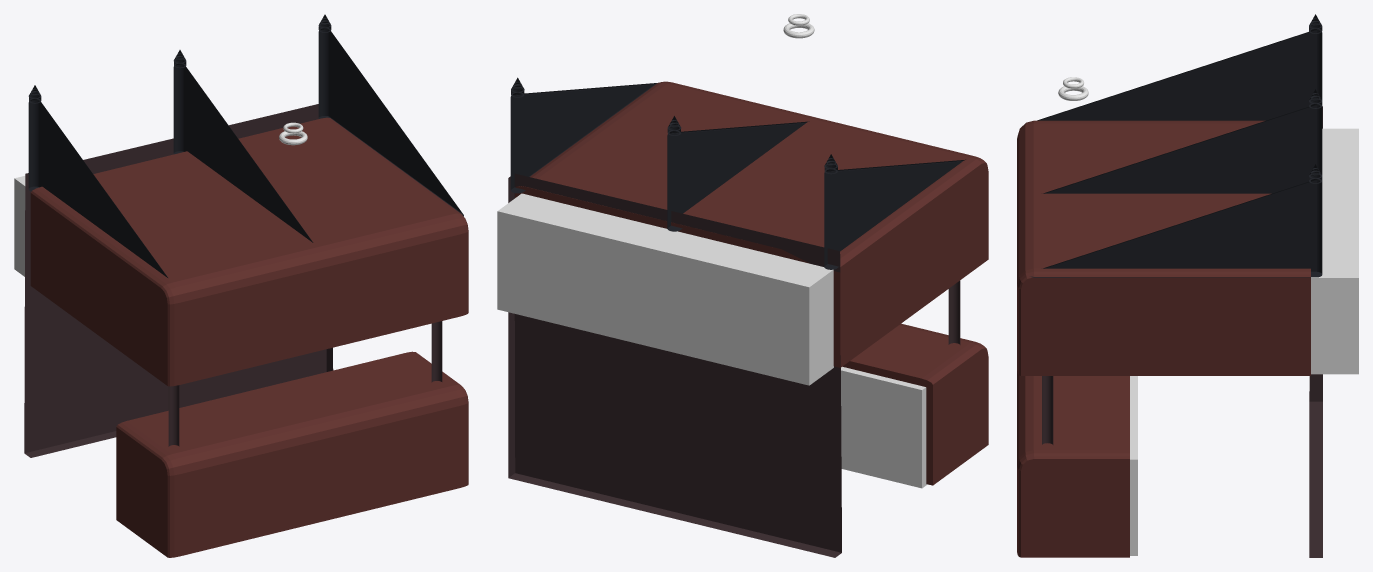
File: stall together strongfbx.fbx
The picture shows the model from 3 angles, left to right: view 1: azimuth 30°, elevation 25°; view 2: azimuth 150°, elevation 25°; view 3: azimuth 270°, elevation 25°; orthographic projection. The views are drawn at different scales.
Visible parts, largest first — view 1: Cube, Cube.002; view 2: Cube, Cube.002, Cube.001; view 3: Cube, Cube.002, Cube.001.
Boxes of the visible parts, x1,y1,x2,y2 form: Cube: [24, 14, 468, 557]; Cube.002: [14, 176, 25, 276]; Cube: [508, 77, 988, 557]; Cube.002: [497, 193, 833, 385]; Cube.001: [841, 366, 927, 488]; Cube: [1017, 14, 1322, 557]; Cube.002: [1311, 128, 1358, 374]; Cube.001: [1130, 376, 1137, 555].
Size of the model in its own units: 657 by 783 by 606.
